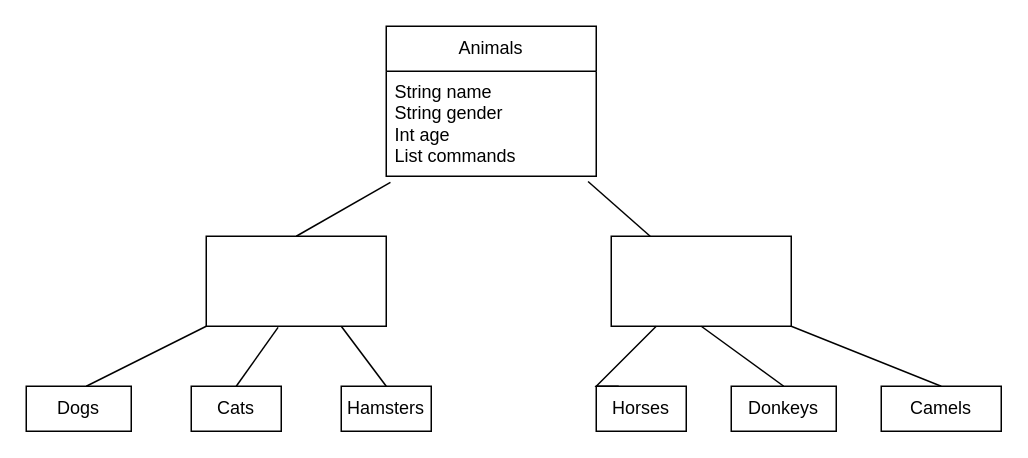
This 1028x458 diagram has some shape labels left out. The centre of each missing label's shape, as x and y in pixels:
Pack_animals: the point at 295,280
Pets: the point at 700,280
